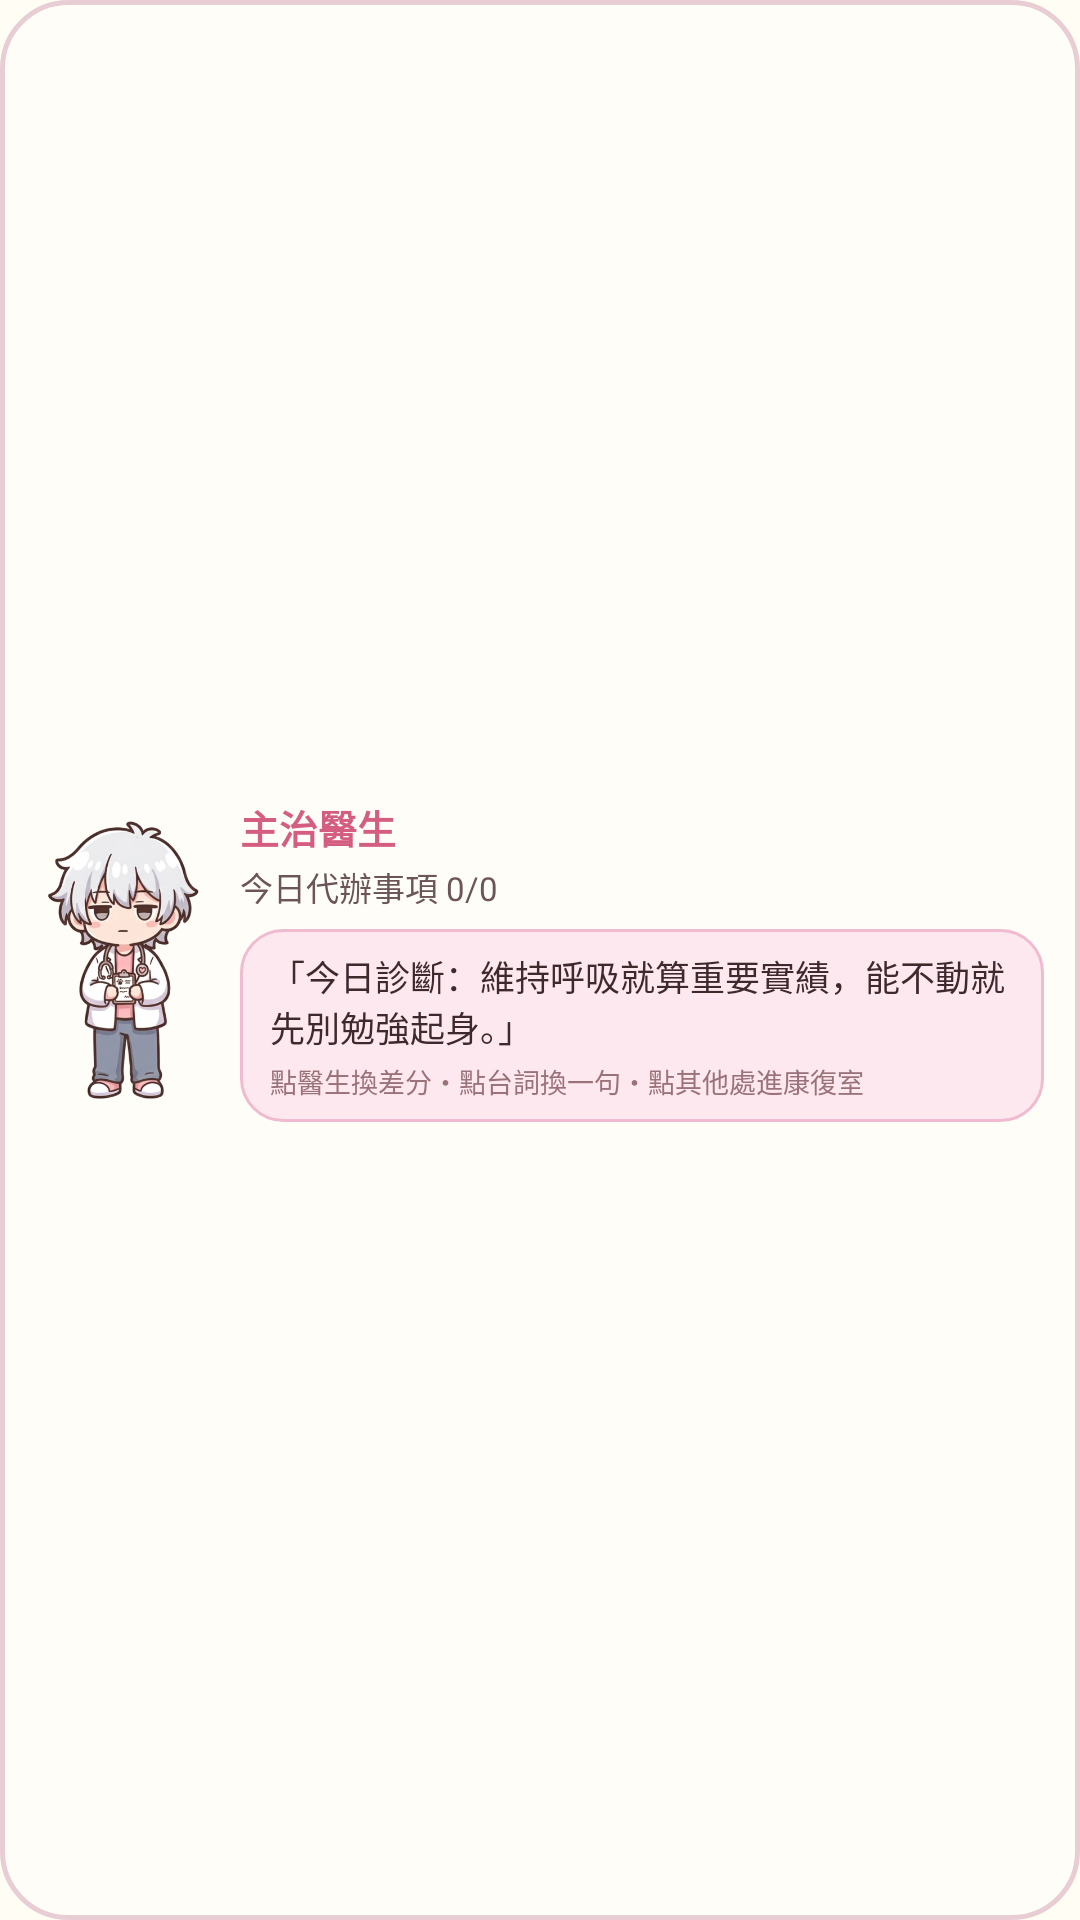

Named icons in this screenshot (1080*1920) and their bounding boxes, (x1, y1, x2, y2):
mascot main: (48, 821, 199, 1099)
